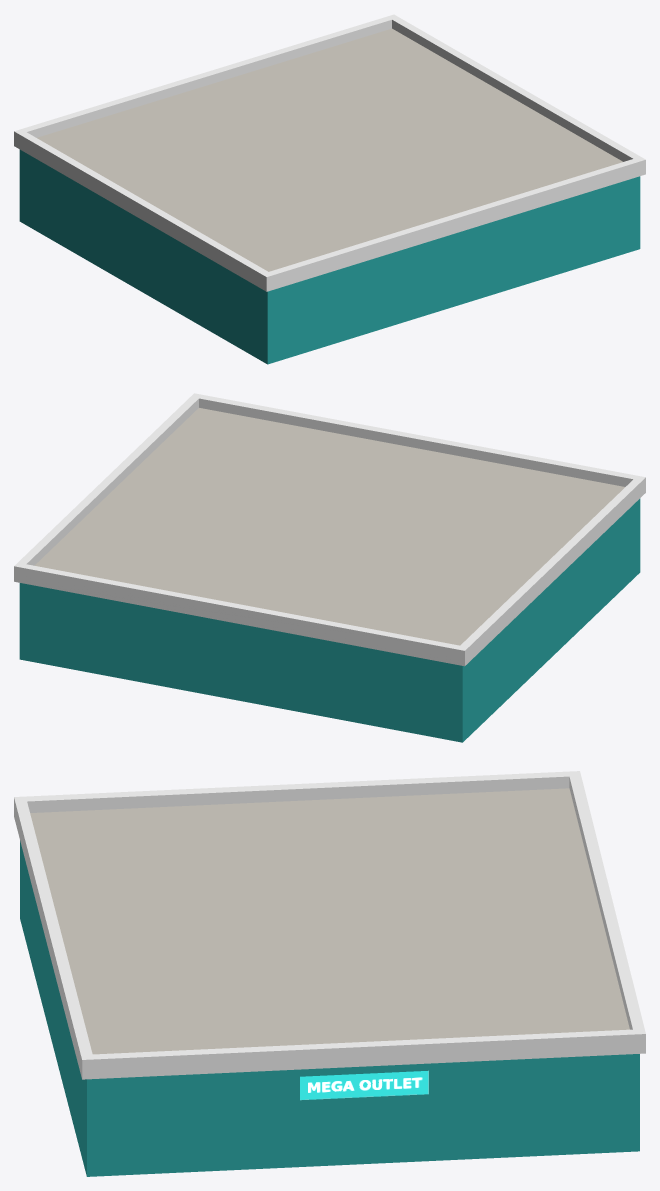
The model's file is megaoutlet.glb.
3 renders of one model, top to bottom at view 1: azimuth 30°, elevation 25°; view 2: azimuth 150°, elevation 25°; view 3: azimuth 270°, elevation 25°, orthographic. The views are drawn at different scales.
Parts seen in each view (by area): view 1: megaoutlet_lod0; view 2: megaoutlet_lod0; view 3: megaoutlet_lod0.
Boxes of the visible parts, box(x1,y1,x2,y2) form: megaoutlet_lod0: box(14, 14, 645, 364); megaoutlet_lod0: box(14, 393, 645, 742); megaoutlet_lod0: box(14, 771, 645, 1176).
Size of what is drawn, in the model's own units: 31.65 by 6.1 by 29.25.
4 materials, 2 textured.
